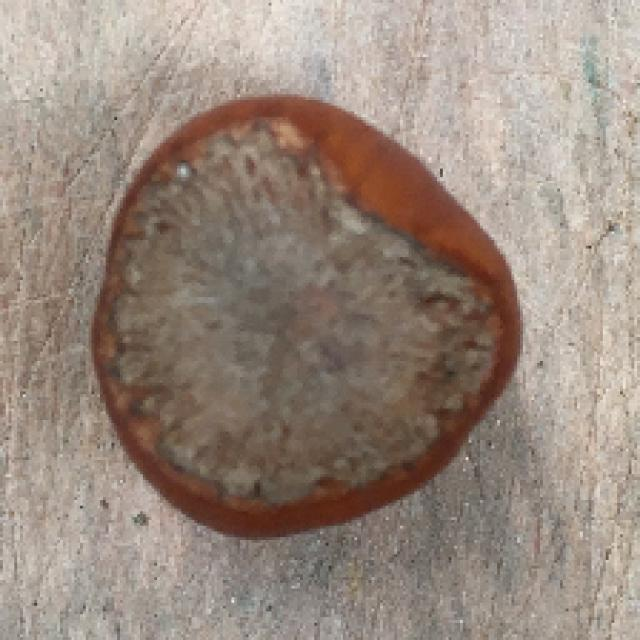qualityHazelnut: (82, 88, 526, 552)
